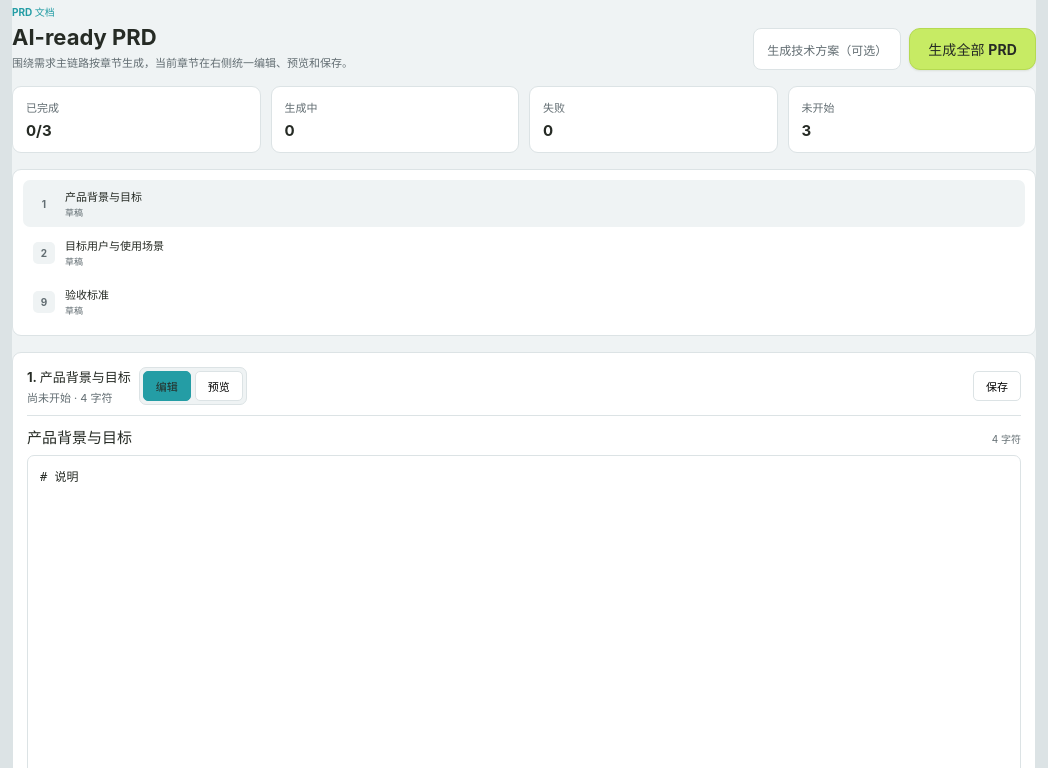
Test: PrdView › shows a readable summary when PRD section streaming fails
The image size is (1048, 768).
Click the button with test id "generate-all-btn".
click(973, 49)  # box x1=909 y1=28 x2=1036 y2=70
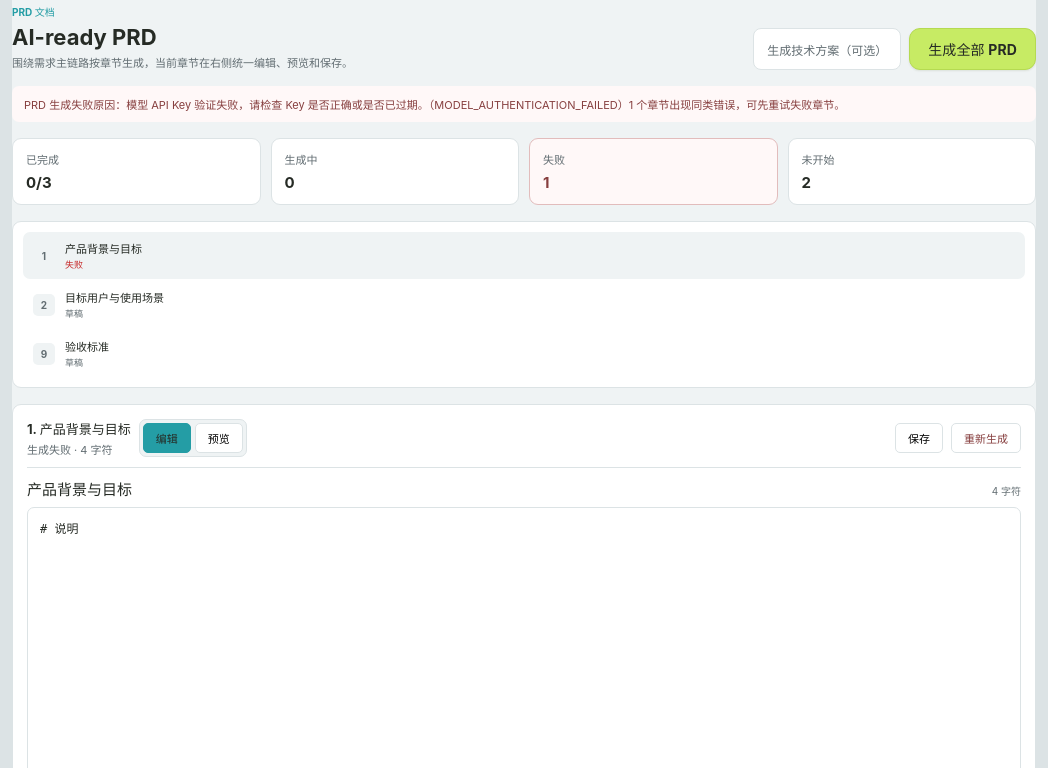
Expected: the message with test id "prd-failure-summary" shows "模型 API Key 验证失败", x1=24 y1=98 x2=845 y2=112
Expected: the message with test id "prd-failure-summary" shows "MODEL_AUTHENTICATION_FAILED", x1=24 y1=98 x2=845 y2=112
